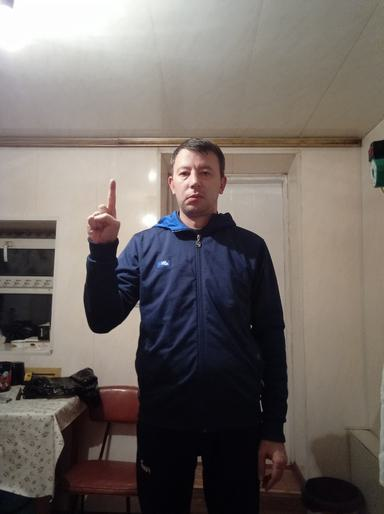one: (86, 178, 122, 246)
